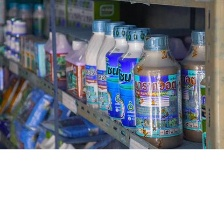insecticide: (130, 31, 185, 150), (177, 26, 223, 145), (115, 24, 162, 135), (102, 22, 147, 129), (92, 18, 134, 125), (81, 16, 120, 118), (42, 30, 77, 92), (62, 38, 93, 106)
